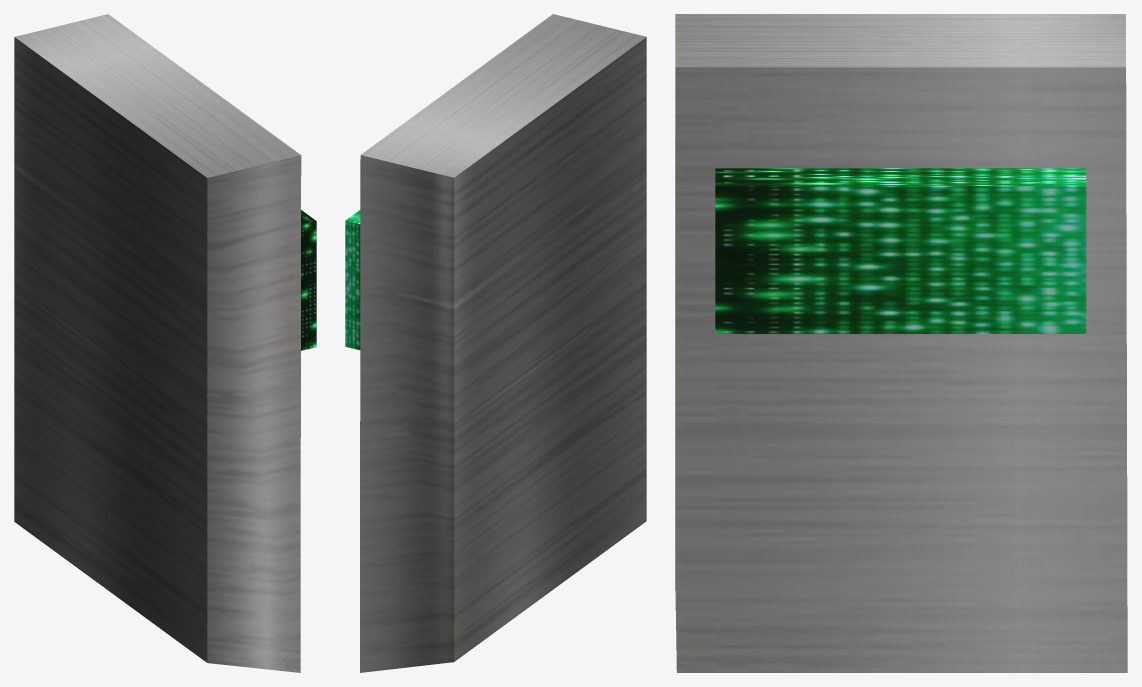
The model's file is boton.fbx.
3 renders of one model, left to right at view 1: azimuth 30°, elevation 25°; view 2: azimuth 150°, elevation 25°; view 3: azimuth 270°, elevation 25°, orthographic. The views are drawn at different scales.
Parts seen in each view (by area): view 1: Cube, Cube.001; view 2: Cube, Cube.001; view 3: Cube, Cube.001.
Boxes of the visible parts, x1,y1,x2,y2 form: Cube: [14, 14, 301, 672]; Cube.001: [301, 210, 316, 350]; Cube: [360, 14, 646, 672]; Cube.001: [345, 210, 360, 350]; Cube: [675, 14, 1127, 672]; Cube.001: [715, 168, 1086, 333].
Bounding box in the file's own units: 40.92 × 161 × 109.
Materials: 2 (2 with a texture image).
